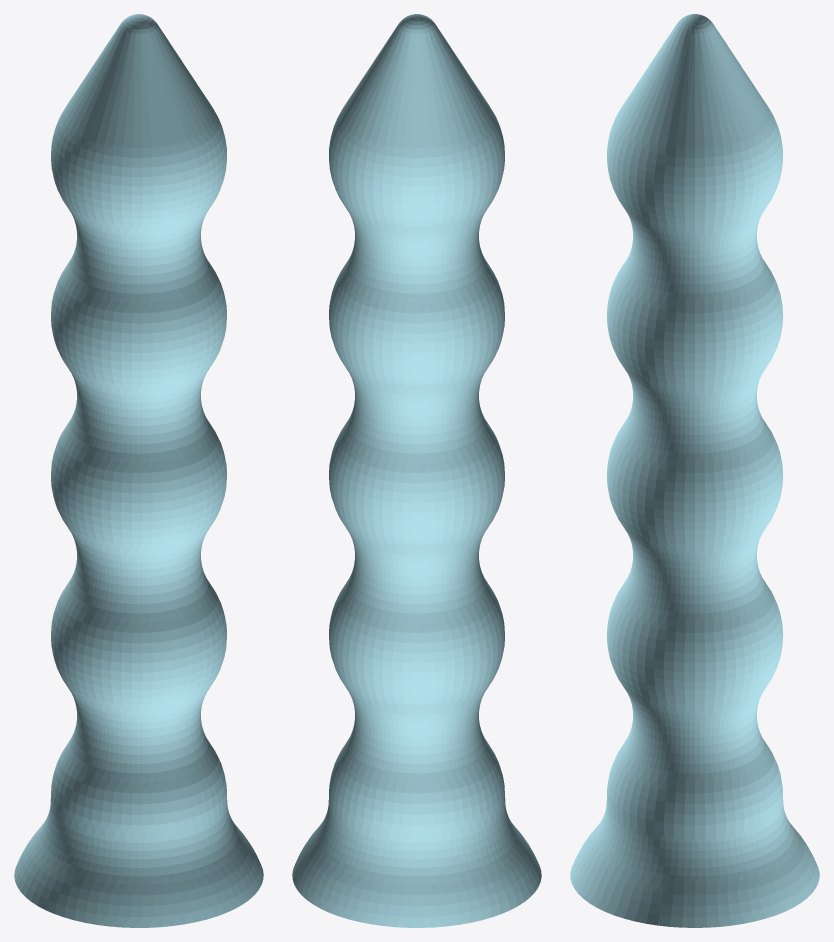
File: toothbrush.glb
3 views of the same model, side by side, from view 1: azimuth 30°, elevation 25°; view 2: azimuth 150°, elevation 25°; view 3: azimuth 270°, elevation 25° (orthographic).
Visible parts, largest first — view 1: Node1; view 2: Node1; view 3: Node1.
Boxes of the visible parts, <box> form: Node1: <box>14,14,263,927</box>; Node1: <box>292,14,541,927</box>; Node1: <box>570,14,819,927</box>.
Bounding box in the file's own units: 28.28 × 108 × 28.25.
